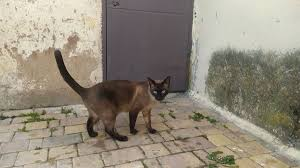cat: (38, 41, 181, 148)
